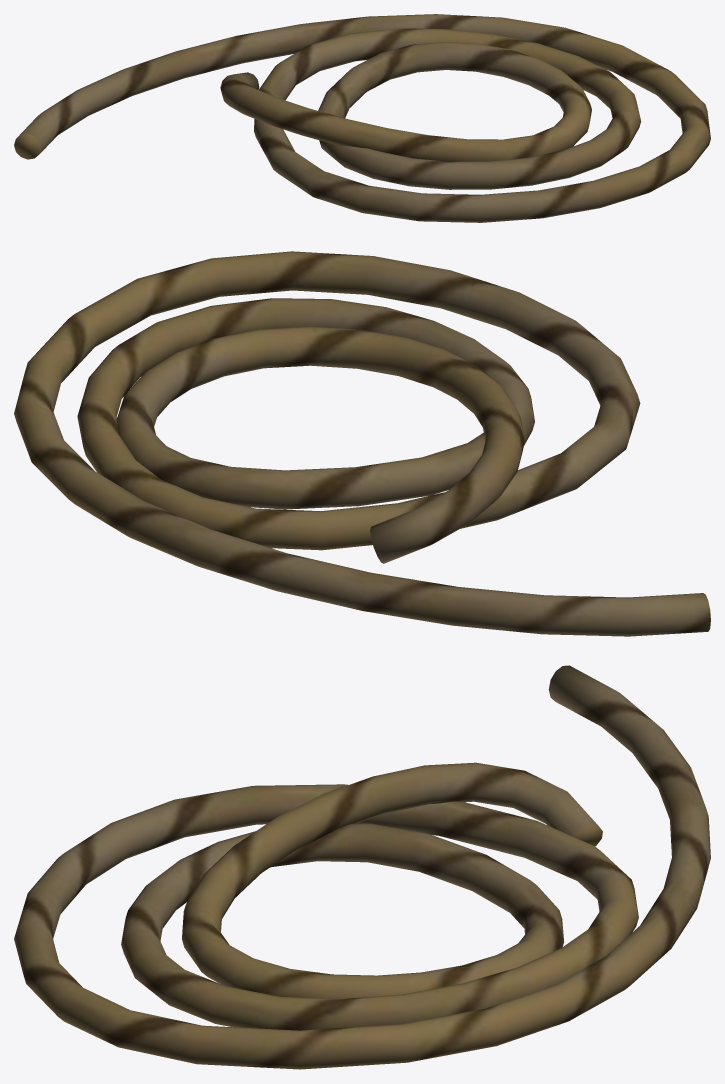
The model's file is quaternius-fantasy-props-rope-3.glb.
3 views of the same model, one above another, from view 1: azimuth 30°, elevation 25°; view 2: azimuth 150°, elevation 25°; view 3: azimuth 270°, elevation 25° (orthographic). The views are drawn at different scales.
Visible parts, largest first — view 1: Rope_3; view 2: Rope_3; view 3: Rope_3.
Part boxes in pixels (box(x1,y1,x2,y2)): Rope_3: box(14, 14, 710, 222); Rope_3: box(14, 251, 710, 636); Rope_3: box(14, 665, 710, 1069).
Size of the model in its own units: 0.8 by 0.0663 by 0.6194.
1 material, 1 textured.
